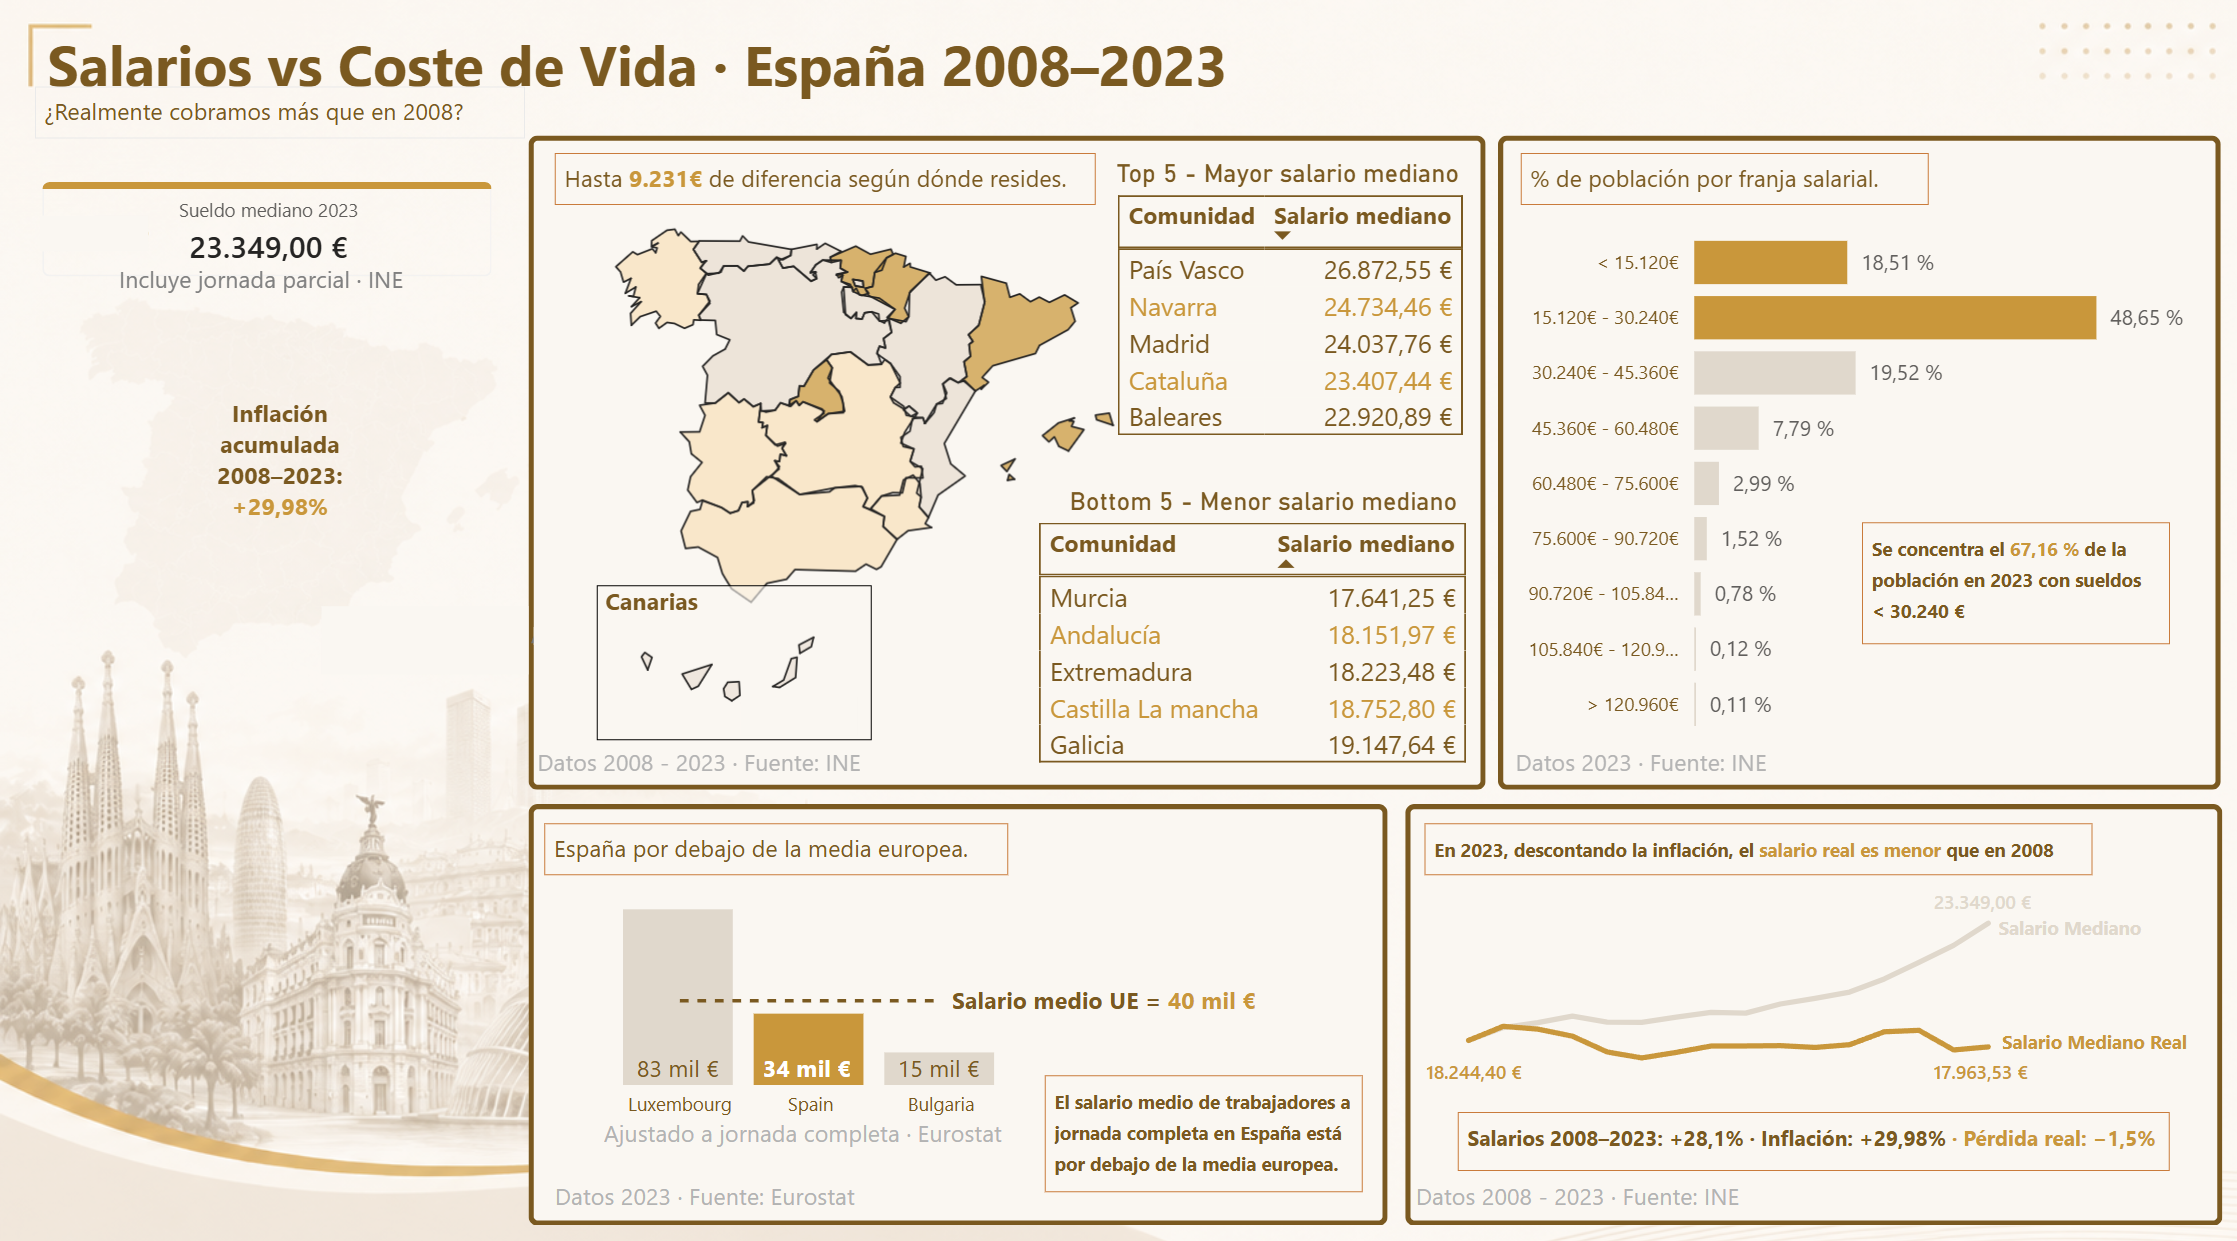

The dashboard page shown, as its layout file describes it:
{"tool":"powerbi","page":{"name":"Dashboard","canvas":[1280,720],"ordinal":0},"visuals":[{"type":"shape","box":[803.5,460.3,466.2,240.2],"z":0},{"type":"textbox","box":[22,11,700.6,60],"z":1000},{"type":"textbox","box":[861.2,87.6,261.7,37.5],"z":2000},{"type":"shape","box":[301.7,460.3,491.1,240.2],"z":3000},{"type":"shape","box":[301.8,78,546.7,373.8],"z":4000},{"type":"shape","box":[856.5,78,412.8,373.8],"z":5000},{"type":"azureMap","fields":{"Category":["Mapa.Comunidad autónoma"],"Series":["Mapa.mediana"]},"box":[217.9,96.9,552.7,282.8],"z":6000},{"type":"azureMap","fields":{"Category":["Mapa.Comunidad autónoma"],"Series":["Mapa.mediana"]},"box":[340.8,334.8,156.9,88.9],"z":7000},{"type":"image","box":[145.6,346.7,194.4,38.9],"z":8000},{"type":"image","box":[448.8,661.2,92.5,23.8],"z":9000},{"type":"tableEx","title":"Top 5 - Mayor salario mediano","fields":{"Values":["Mapa.Comunidad Autonoma","Mapa.mediana"]},"box":[633.3,91.4,247.9,178.9],"z":10000},{"type":"image","box":[291.2,582.5,195,23.8],"z":11000},{"type":"image","box":[318.8,583.8,195,23.8],"z":12000},{"type":"image","box":[348.8,495,5,185],"z":13000},{"type":"textbox","box":[316.8,87.9,308.8,30],"z":14000},{"type":"image","box":[347.5,586.2,20,12.5],"z":15000},{"type":"textbox","box":[340.8,329.8,73,29],"z":16000},{"type":"image","box":[305,347.5,31.2,33.8],"z":17000},{"type":"image","box":[353.8,398.8,204.9,22],"z":18000},{"type":"tableEx","title":"Bottom 5 - Menor salario mediano","fields":{"Values":["Mapa.Comunidad Autonoma","Mapa.mediana"]},"box":[587.7,277.8,268.8,174.9],"z":19000},{"type":"textbox","box":[302.2,422.2,225.6,30],"z":20000},{"type":"lineChart","fields":{"Y":["Sum(Mediana.Mediana)","Mediana.Salario Medio Real"],"Category":["CalendarioAnual.Año"]},"box":[823.8,506.2,327.5,125],"z":21000},{"type":"textbox","box":[1136.8,515.9,95.9,30],"z":22000},{"type":"cardVisual","fields":{"Data":["Mediana.Salario 2023 real"]},"box":[1076.2,587.5,120,48.8],"z":23000},{"type":"cardVisual","fields":{"Data":["Mediana.Sueldo 2023"]},"box":[1076.2,490,120,48.8],"z":24000},{"type":"textbox","box":[813.8,471.2,382.5,30],"z":25000},{"type":"textbox","box":[1064.4,298.9,175.6,70],"z":26000},{"type":"cardVisual","fields":{"Data":["Mediana.Sueldo 2008"]},"box":[786.2,587.5,122.5,48.8],"z":27000},{"type":"textbox","box":[1138.8,581.2,132.5,31.2],"z":28000},{"type":"textbox","box":[311.2,471.2,265,30],"z":29000},{"type":"clusteredBarChart","fields":{"Category":["Hoja1.Sueldo Anual Bruto (2023)"],"Y":["Sum(Hoja1.% de Trabajadores)"]},"box":[856.2,112.5,396.2,321.2],"z":30000},{"type":"textbox","box":[868.9,87.8,233.3,30],"z":31000},{"type":"textbox","box":[861.1,422.2,170,30],"z":32000},{"type":"textbox","box":[803.8,670,298.8,30],"z":33000},{"type":"textbox","box":[597,615,182,67],"z":34000},{"type":"textbox","box":[312.2,670,263.3,30],"z":35000},{"type":"textbox","box":[20,50,280,30],"z":36000},{"type":"textbox","box":[101.1,223.3,117.8,81.1],"z":37000},{"type":"lineStackedColumnComboChart","fields":{"Y":["Sum(Sheet 1.2024)"],"Category":["Sheet 1.País"],"Y2":["Sheet 1.media europea"]},"box":[321.2,486.2,283.8,163.8],"z":38000},{"type":"textbox","box":[358.8,597.3,75,35],"z":39000},{"type":"textbox","box":[507.5,597.3,68.8,35],"z":40000},{"type":"textbox","box":[431.2,597.3,62.5,35],"z":41000},{"type":"textbox","box":[538.8,557.5,201.2,28.8],"z":42000},{"type":"textbox","box":[340,633.8,262.5,30],"z":43000},{"type":"textbox","box":[832.5,636.2,407.5,33.8],"z":44000},{"type":"cardVisual","fields":{"Data":["Mediana.Sueldo 2023"]},"box":[7,88,291.2,87.5],"z":45000},{"type":"image","box":[22.5,117.5,62.5,33.8],"z":46000},{"type":"textbox","box":[63.2,145.5,176.2,30],"z":47000}]}

Visuals, with their boxes in screenshot pixels (x1, y1, x2, y2), scaled from the page's 1280x720 canvas onto the 2237x1241 screenshot:
shape: left=1404, top=793, right=2219, bottom=1207
textbox: left=38, top=19, right=1263, bottom=122
textbox: left=1505, top=151, right=1962, bottom=216
shape: left=527, top=793, right=1386, bottom=1207
shape: left=527, top=134, right=1483, bottom=779
shape: left=1497, top=134, right=2218, bottom=779
azureMap - Mapa.Comunidad autónoma x Mapa.mediana: left=381, top=167, right=1347, bottom=654
azureMap - Mapa.Comunidad autónoma x Mapa.mediana: left=596, top=577, right=870, bottom=730
image: left=254, top=598, right=594, bottom=665
image: left=784, top=1140, right=946, bottom=1181
"Top 5 - Mayor salario mediano" tableEx: left=1107, top=158, right=1540, bottom=466
image: left=509, top=1004, right=850, bottom=1045
image: left=557, top=1006, right=898, bottom=1047
image: left=610, top=853, right=618, bottom=1172
textbox: left=554, top=152, right=1093, bottom=203
image: left=607, top=1010, right=642, bottom=1032
textbox: left=596, top=568, right=723, bottom=618
image: left=533, top=599, right=588, bottom=657
image: left=618, top=687, right=976, bottom=725
"Bottom 5 - Menor salario mediano" tableEx: left=1027, top=479, right=1497, bottom=780
textbox: left=528, top=728, right=922, bottom=779
lineChart - Sum(Mediana.Mediana) x Mediana.Salario Medio Real: left=1440, top=872, right=2012, bottom=1088
textbox: left=1987, top=889, right=2154, bottom=941
cardVisual - Mediana.Salario 2023 real: left=1881, top=1013, right=2091, bottom=1097
cardVisual - Mediana.Sueldo 2023: left=1881, top=845, right=2091, bottom=929
textbox: left=1422, top=812, right=2091, bottom=864
textbox: left=1860, top=515, right=2167, bottom=636
cardVisual - Mediana.Sueldo 2008: left=1374, top=1013, right=1588, bottom=1097
textbox: left=1990, top=1002, right=2222, bottom=1056
textbox: left=544, top=812, right=1007, bottom=864
clusteredBarChart - Hoja1.Sueldo Anual Bruto (2023) x Sum(Hoja1.% de Trabajadores): left=1496, top=194, right=2189, bottom=748
textbox: left=1519, top=151, right=1926, bottom=203
textbox: left=1505, top=728, right=1802, bottom=779
textbox: left=1405, top=1155, right=1927, bottom=1207
textbox: left=1043, top=1060, right=1361, bottom=1176
textbox: left=546, top=1155, right=1006, bottom=1207
textbox: left=35, top=86, right=524, bottom=138
textbox: left=177, top=385, right=383, bottom=525
lineStackedColumnComboChart - Sum(Sheet 1.2024) x Sheet 1.País: left=561, top=838, right=1057, bottom=1120
textbox: left=627, top=1030, right=758, bottom=1090
textbox: left=887, top=1030, right=1007, bottom=1090
textbox: left=754, top=1030, right=863, bottom=1090
textbox: left=942, top=961, right=1293, bottom=1011
textbox: left=594, top=1092, right=1053, bottom=1144
textbox: left=1455, top=1097, right=2167, bottom=1155
cardVisual - Mediana.Sueldo 2023: left=12, top=152, right=521, bottom=302
image: left=39, top=203, right=149, bottom=261
textbox: left=110, top=251, right=418, bottom=302
